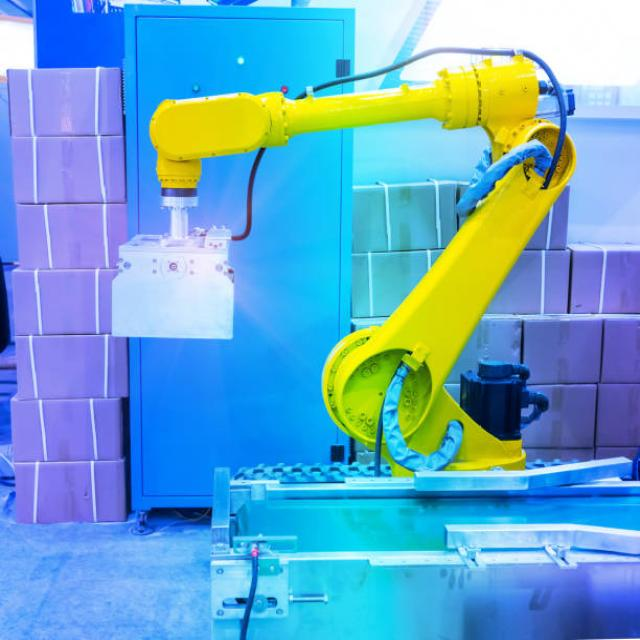Robotic-arm: (126, 52, 584, 492)
